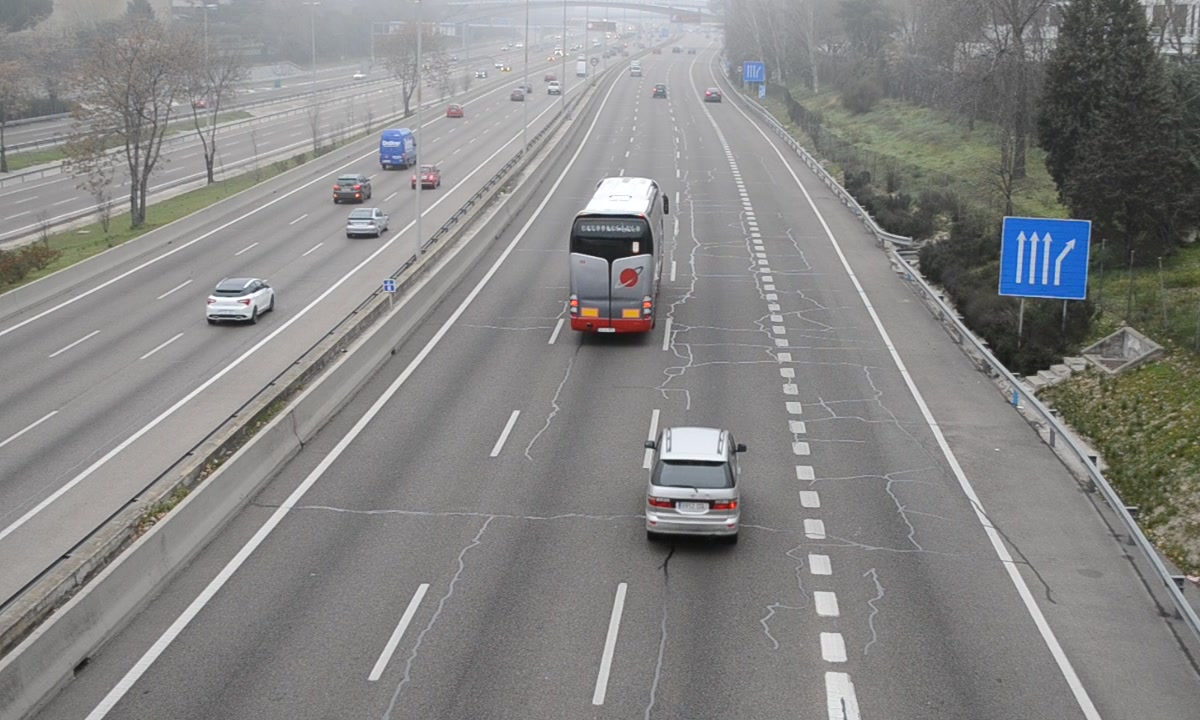bus: (570, 176, 666, 336)
car: (643, 427, 743, 539)
